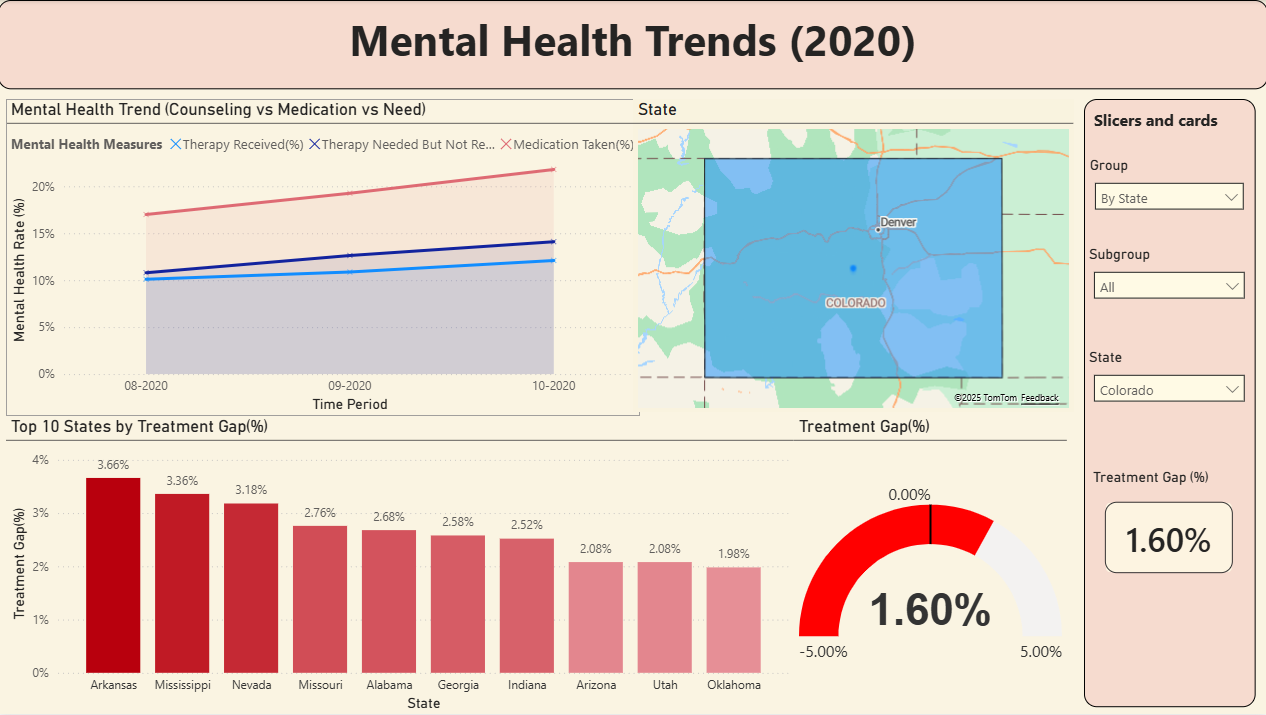

This screenshot's page, from the dashboard's own definition file:
{"tool":"powerbi","page":{"name":"Page 1","canvas":[1280,720],"ordinal":0},"visuals":[{"type":"lineChart","title":"Mental Health Trend (Counseling vs Medication vs Need)","fields":{"Category":["Calendar.YearMonth"],"Y":["Mental_Health_Care_in_the_Last_4_Weeks.TherapyReceived%","Mental_Health_Care_in_the_Last_4_Weeks.TherapyNeededButNotReceived%","Mental_Health_Care_in_the_Last_4_Weeks.MedicationTaken%"]},"box":[8.1,99.7,639.2,319.6],"z":0},{"type":"slicer","title":"State Filter","fields":{"Values":["Mental_Health_Care_in_the_Last_4_Weeks.State"]},"box":[1094.2,286.9,173.1,82.5],"z":1000},{"type":"slicer","title":"Group Filter","fields":{"Values":["Mental_Health_Care_in_the_Last_4_Weeks.Group"]},"box":[1094.2,99.9,170.7,82.5],"z":2000},{"type":"slicer","title":"Subgroup Filter","fields":{"Values":["Mental_Health_Care_in_the_Last_4_Weeks.Subgroup"]},"box":[1094.2,191.7,173.1,84.8],"z":3000},{"type":"textbox","box":[0,0,1280,89.7],"z":4000},{"type":"azureMap","fields":{"Category":["Mental_Health_Care_in_the_Last_4_Weeks.State"]},"box":[640,99.9,443.7,314.8],"z":5000},{"type":"cardVisual","title":"Treatment Gap (%)","fields":{"Data":["Mental_Health_Care_in_the_Last_4_Weeks.Treatment Gap(%)"]},"box":[1077.9,414.7,189.3,146.4],"z":6000},{"type":"clusteredColumnChart","title":"Top 10 States by Treatment Gap(%)","fields":{"Category":["Mental_Health_Care_in_the_Last_4_Weeks.State"],"Y":["Mental_Health_Care_in_the_Last_4_Weeks.Treatment Gap(%)"]},"box":[8.1,419.3,794.5,300.8],"z":7000},{"type":"gauge","fields":{"Y":["Mental_Health_Care_in_the_Last_4_Weeks.Treatment Gap(%)"]},"box":[802.3,419.3,275.1,285.2],"z":8000}]}

Visuals, with their boxes in screenshot pixels (x1, y1, x2, y2), scaled from the page's 1280x720 canvas onto the 1266x715 screenshot:
"Mental Health Trend (Counseling vs Medication vs Need)" lineChart: 8/99/640/416
"State Filter" slicer: 1082/285/1253/367
"Group Filter" slicer: 1082/99/1251/181
"Subgroup Filter" slicer: 1082/190/1253/275
textbox: 0/0/1265/89
azureMap - Mental_Health_Care_in_the_Last_4_Weeks.State: 633/99/1072/412
"Treatment Gap (%)" cardVisual: 1066/412/1253/557
"Top 10 States by Treatment Gap(%)" clusteredColumnChart: 8/416/794/714
gauge - Mental_Health_Care_in_the_Last_4_Weeks.Treatment Gap(%): 794/416/1066/700
